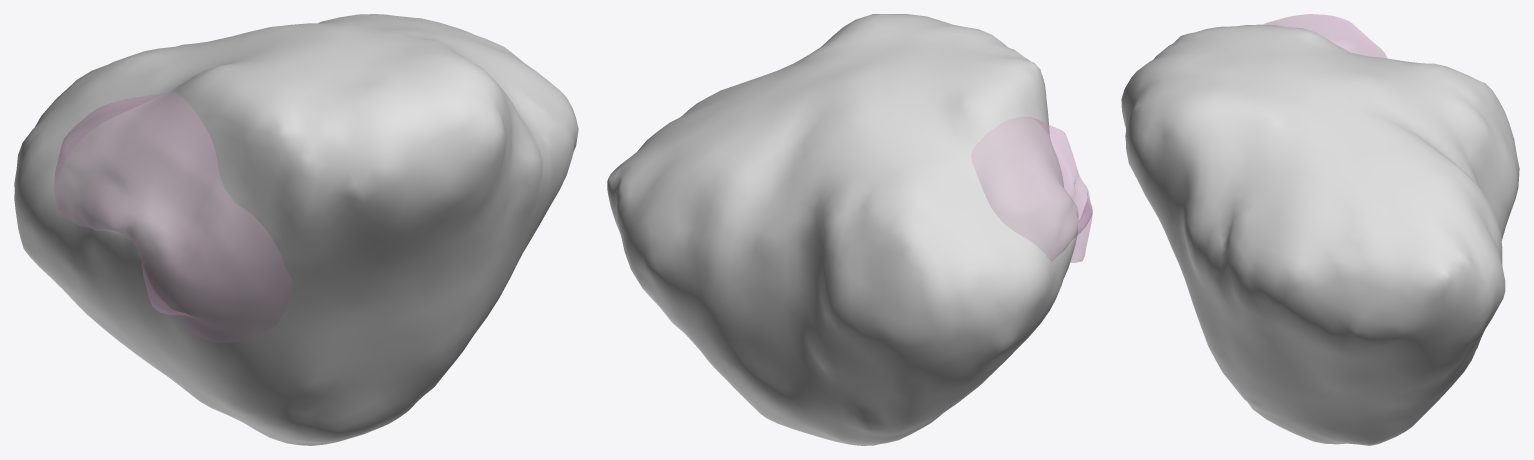
Rendered from turnTable_lowtransparency.glb.
The picture shows the model from 3 angles, left to right: view 1: azimuth 30°, elevation 25°; view 2: azimuth 150°, elevation 25°; view 3: azimuth 270°, elevation 25°; orthographic projection. The views are drawn at different scales.
Visible parts, largest first — view 1: ProstateMRIPPMF17smoothed2Fixed, TumourSUV4; view 2: ProstateMRIPPMF17smoothed2Fixed, TumourSUV4; view 3: ProstateMRIPPMF17smoothed2Fixed, TumourSUV4.
Boxes of the visible parts, x1,y1,x2,y2 form: ProstateMRIPPMF17smoothed2Fixed: (14, 14, 578, 445); TumourSUV4: (54, 92, 292, 342); ProstateMRIPPMF17smoothed2Fixed: (607, 14, 1078, 445); TumourSUV4: (971, 117, 1092, 262); ProstateMRIPPMF17smoothed2Fixed: (1121, 24, 1519, 445); TumourSUV4: (1264, 14, 1386, 57).
Bounding box in the file's own units: 7.69 × 6.36 × 6.26.
